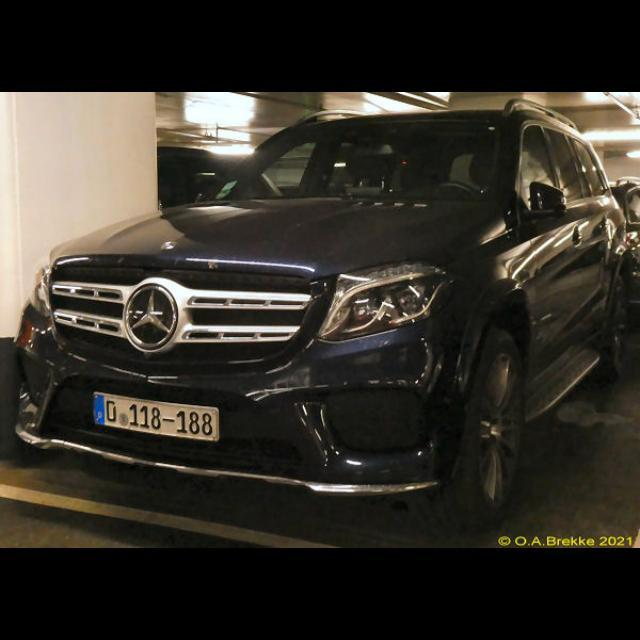license-plates: (93, 394, 220, 442)
